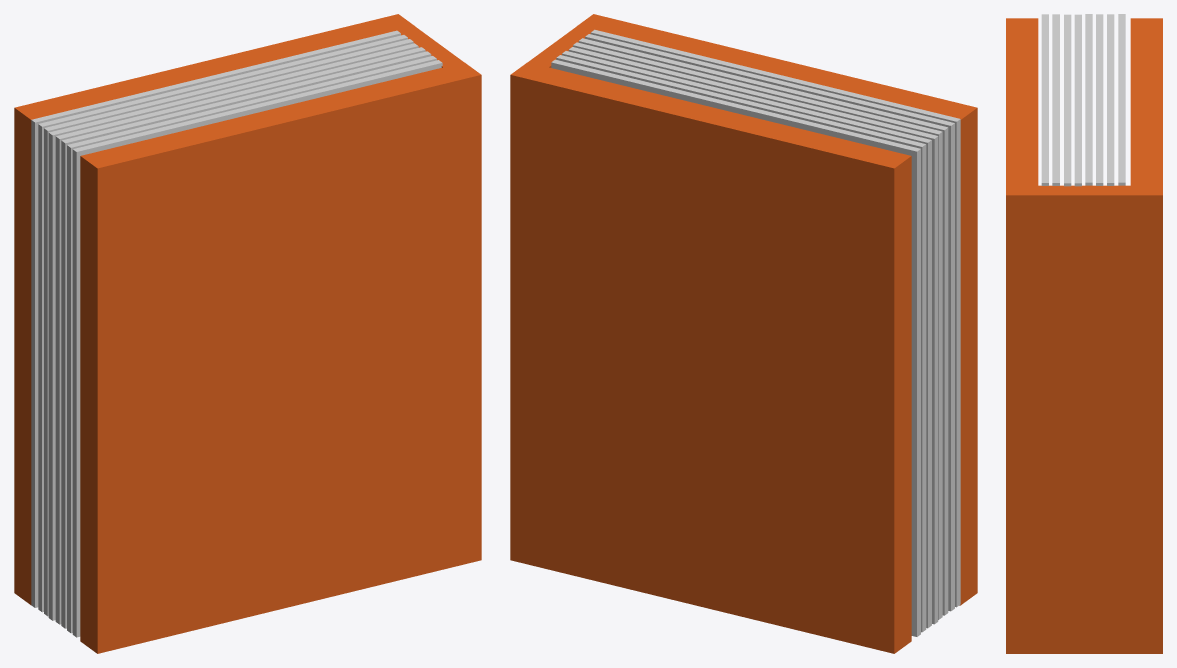
Rendered from book3.fbx.
The picture shows the model from 3 angles, left to right: view 1: azimuth 30°, elevation 25°; view 2: azimuth 150°, elevation 25°; view 3: azimuth 270°, elevation 25°; orthographic projection. The views are drawn at different scales.
Visible parts, largest first — view 1: Cube.001; view 2: Cube.001; view 3: Cube.001.
Boxes of the visible parts, x1,y1,x2,y2 form: Cube.001: [14, 14, 481, 653]; Cube.001: [510, 14, 977, 653]; Cube.001: [1006, 14, 1162, 653].
Bounding box in the file's own units: 658 × 794 × 245.
